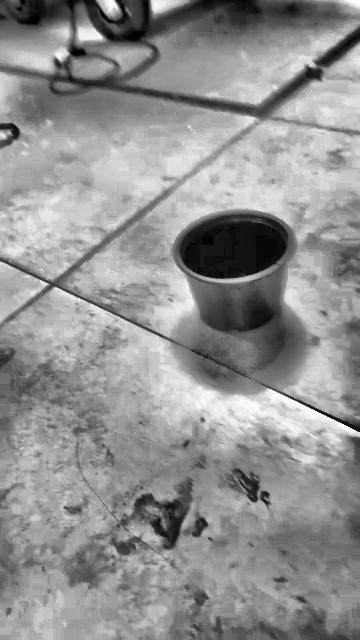pot: (173, 211, 295, 332)
